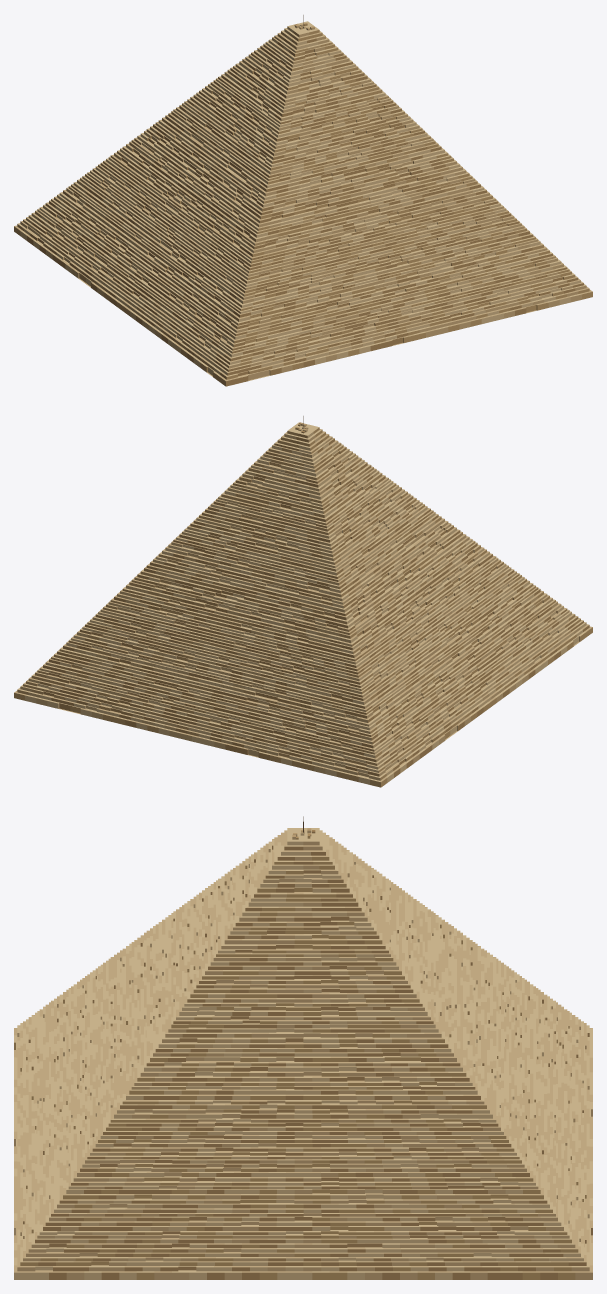
File: piramide-queops.glb
3 views of the same model, one above another, from view 1: azimuth 30°, elevation 25°; view 2: azimuth 150°, elevation 25°; view 3: azimuth 270°, elevation 25° (orthographic). The views are drawn at different scales.
Visible parts, largest first — view 1: Degraus; view 2: Degraus; view 3: Degraus.
Boxes of the visible parts, left/top/right/bottom form: Degraus: left=14, top=21, right=592, bottom=386; Degraus: left=14, top=422, right=592, bottom=787; Degraus: left=14, top=828, right=592, bottom=1279.
Size of the model in its own units: 228 by 149 by 228.
